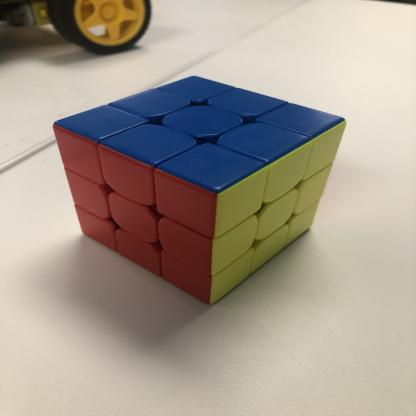SolvedCube: (41, 50, 358, 310)
